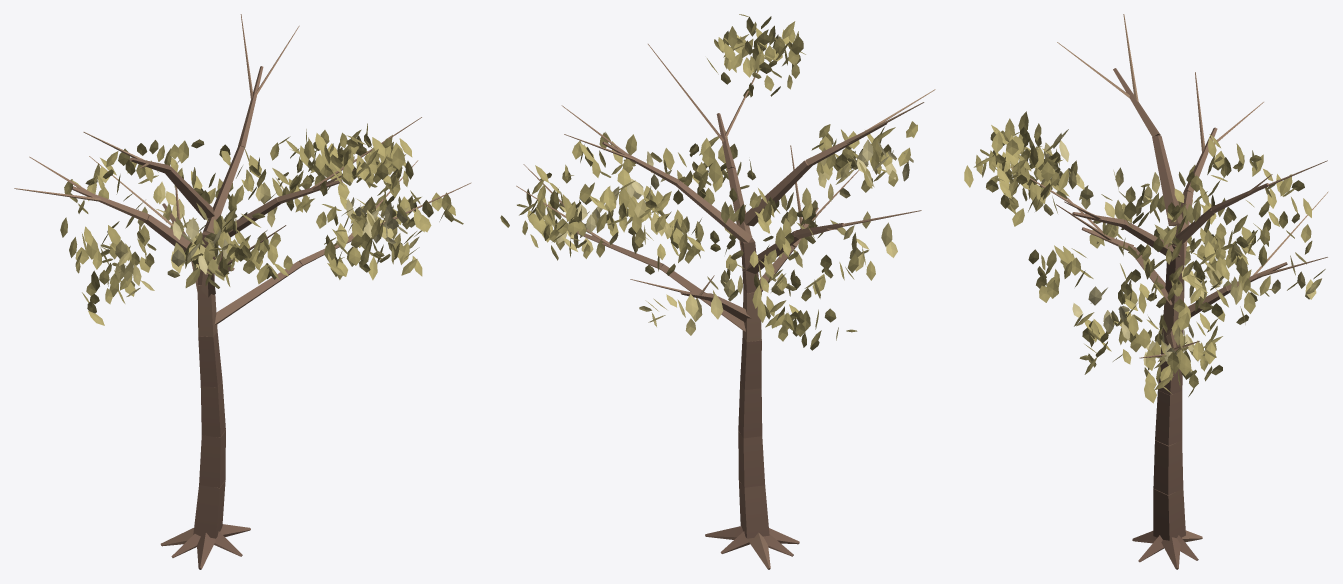
File: tree_3d_03_yellow.glb
3 renders of one model, left to right at view 1: azimuth 30°, elevation 25°; view 2: azimuth 150°, elevation 25°; view 3: azimuth 270°, elevation 25°, orthographic.
Parts seen in each view (by area): view 1: tree_3d_03_yellow_foliage, tree_3d_03_yellow_wood; view 2: tree_3d_03_yellow_foliage, tree_3d_03_yellow_wood; view 3: tree_3d_03_yellow_foliage, tree_3d_03_yellow_wood.
Boxes of the visible parts, box(x1,y1,x2,y2) form: tree_3d_03_yellow_foliage: box(60, 123, 463, 325); tree_3d_03_yellow_wood: box(14, 14, 471, 569); tree_3d_03_yellow_foliage: box(500, 14, 917, 350); tree_3d_03_yellow_wood: box(516, 44, 935, 569); tree_3d_03_yellow_foliage: box(964, 111, 1325, 403); tree_3d_03_yellow_wood: box(1011, 14, 1328, 569).
Bounding box in the file's own units: 10 × 10.5 × 7.4.
